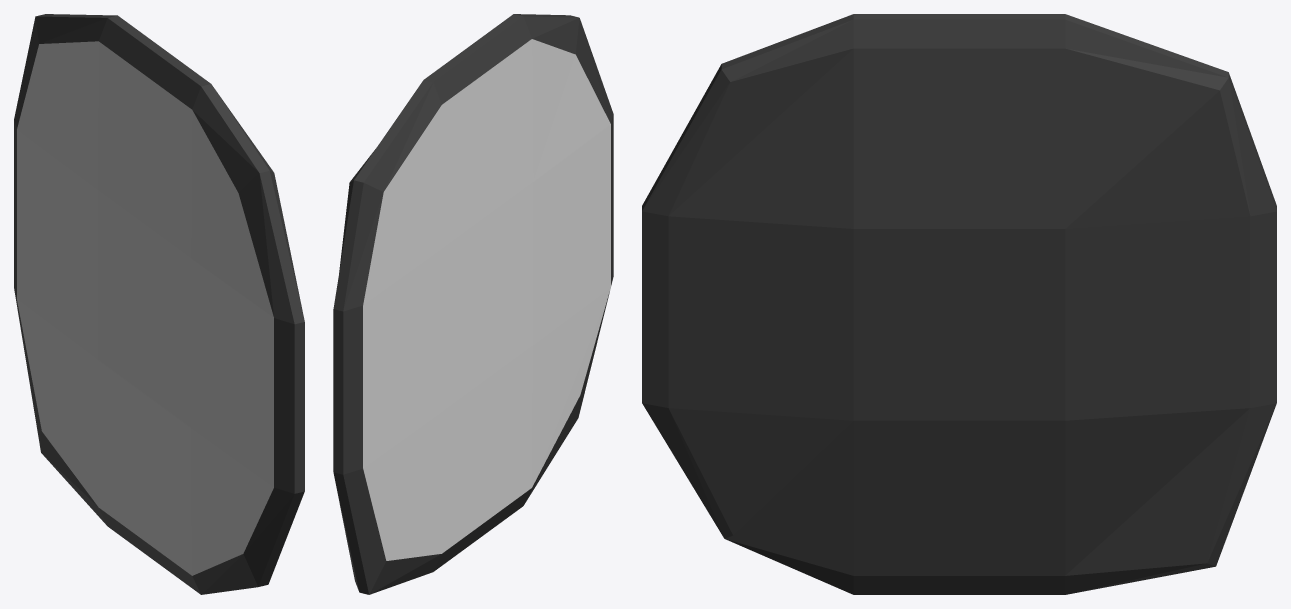
The model's file is espejo.obj.
3 views of the same model, side by side, from view 1: azimuth 30°, elevation 25°; view 2: azimuth 150°, elevation 25°; view 3: azimuth 270°, elevation 25° (orthographic). The views are drawn at different scales.
Visible parts, largest first — view 1: Cube_Cube.001; view 2: Cube_Cube.001; view 3: Cube_Cube.001.
Boxes of the visible parts, x1,y1,x2,y2 form: Cube_Cube.001: (14, 14, 304, 594); Cube_Cube.001: (333, 14, 613, 594); Cube_Cube.001: (642, 14, 1276, 594).
Size of the model in its own units: 0.2149 by 2 by 2.
